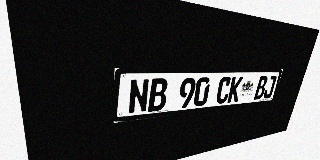0: (193, 77, 211, 107)
9: (178, 77, 197, 108)
B: (148, 78, 168, 112), (253, 76, 268, 100)
C: (215, 77, 232, 104)
J: (263, 76, 277, 99)
K: (227, 76, 243, 103)
N: (128, 79, 150, 114)
